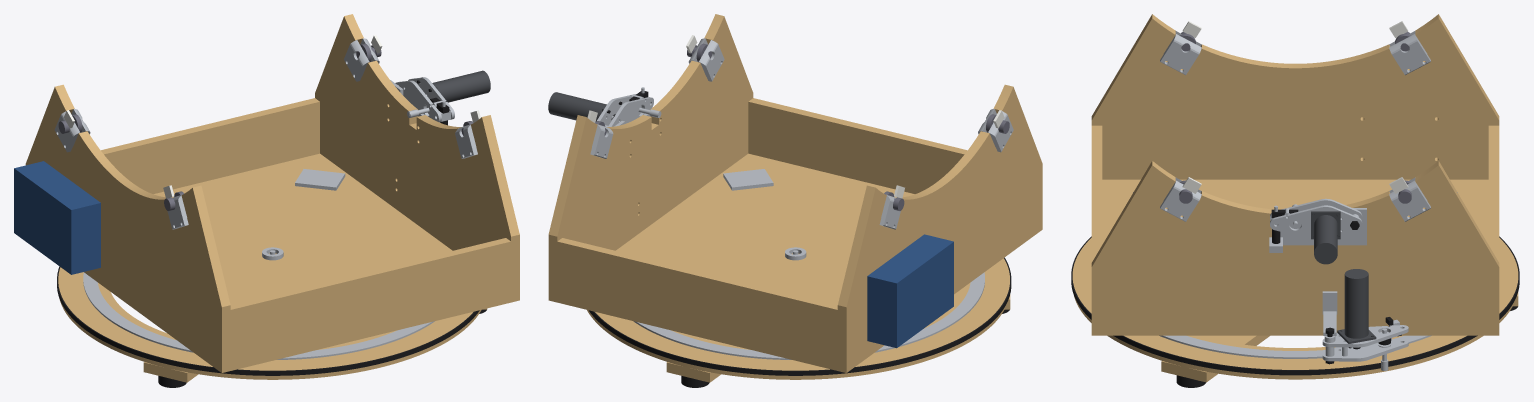
The picture shows the model from 3 angles, left to right: view 1: azimuth 30°, elevation 25°; view 2: azimuth 150°, elevation 25°; view 3: azimuth 270°, elevation 25°; orthographic projection. The views are drawn at different scales.
Parts seen in each view (by area): view 1: rocker_ends, rocker_floor, rocker_wall_drive, rocker_wall_plain, ground_ring, electronics_box_sitech, az_track, az_belt_on_rim, alt_roller_blocks, alt_motor_GM9000, az_flange_plates, alt_arm_plate_A (+3 smaller); view 2: rocker_ends, rocker_floor, rocker_wall_drive, rocker_wall_plain, ground_ring, electronics_box_sitech, az_belt_on_rim, az_track, alt_roller_blocks, alt_motor_GM9000, az_flange_plates, alt_arm_plate_A (+3 smaller); view 3: rocker_wall_plain, rocker_wall_drive, rocker_floor, ground_ring, alt_roller_blocks, rocker_ends, az_belt_on_rim, az_motor_GM9000, az_track, alt_arm_plate_B, ground_board, alt_motor_GM9000 (+6 smaller).
Part boxes in pixels (x1=…): rocker_ends: x1=101, y1=98, x2=510, y2=361; rocker_floor: x1=84, y1=153, x2=519, y2=372; rocker_wall_drive: x1=315, y1=14, x2=519, y2=293; rocker_wall_plain: x1=25, y1=84, x2=230, y2=363; ground_ring: x1=58, y1=267, x2=481, y2=379; electronics_box_sitech: x1=14, y1=161, x2=100, y2=274; az_track: x1=83, y1=272, x2=434, y2=359; az_belt_on_rim: x1=57, y1=266, x2=479, y2=375; alt_roller_blocks: x1=54, y1=38, x2=477, y2=229; alt_motor_GM9000: x1=432, y1=70, x2=490, y2=102; az_flange_plates: x1=295, y1=169, x2=345, y2=190; alt_arm_plate_A: x1=395, y1=80, x2=441, y2=122; rocker_ends: x1=557, y1=98, x2=967, y2=361; rocker_floor: x1=548, y1=153, x2=1042, y2=372; rocker_wall_drive: x1=548, y1=14, x2=753, y2=293; rocker_wall_plain: x1=837, y1=84, x2=1042, y2=363; ground_ring: x1=587, y1=258, x2=1009, y2=379; electronics_box_sitech: x1=867, y1=234, x2=953, y2=348; az_belt_on_rim: x1=589, y1=257, x2=1011, y2=375; az_track: x1=633, y1=272, x2=984, y2=359; alt_roller_blocks: x1=590, y1=38, x2=1013, y2=229; alt_motor_GM9000: x1=548, y1=92, x2=606, y2=121; az_flange_plates: x1=723, y1=169, x2=773, y2=190; alt_arm_plate_A: x1=608, y1=97, x2=653, y2=126; rocker_wall_plain: x1=1091, y1=14, x2=1499, y2=179; rocker_wall_drive: x1=1091, y1=161, x2=1499, y2=326; rocker_floor: x1=1091, y1=179, x2=1499, y2=335; ground_ring: x1=1072, y1=238, x2=1518, y2=379; alt_roller_blocks: x1=1160, y1=31, x2=1430, y2=221; rocker_ends: x1=1091, y1=125, x2=1499, y2=262; az_belt_on_rim: x1=1071, y1=236, x2=1519, y2=375; az_motor_GM9000: x1=1344, y1=269, x2=1368, y2=338; az_track: x1=1159, y1=335, x2=1431, y2=358; alt_arm_plate_B: x1=1270, y1=205, x2=1362, y2=239; ground_board: x1=1161, y1=292, x2=1518, y2=382; alt_motor_GM9000: x1=1314, y1=215, x2=1337, y2=264.
Bounding box in the file's own units: 849 × 407 × 766.
